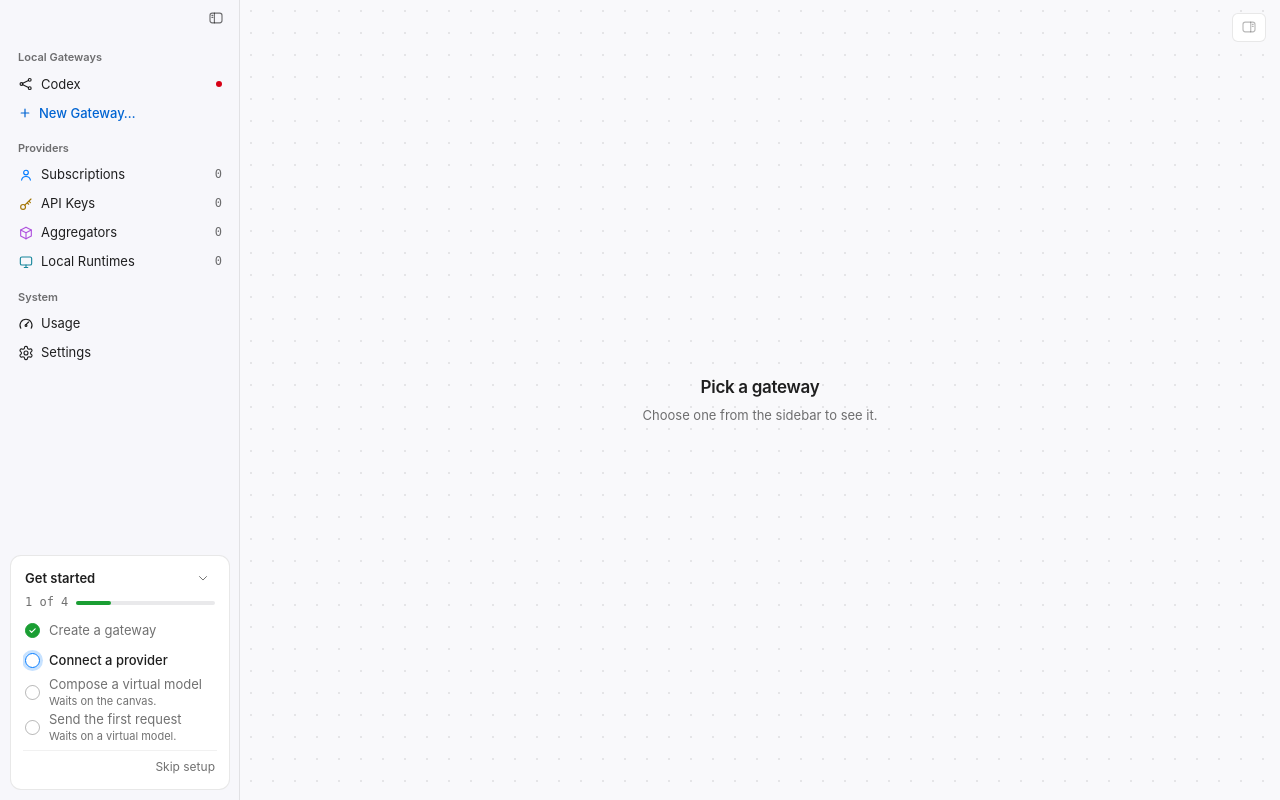
it: the sidebar reaches the creation sheet once the empty state has left
Click the button "New Gateway…": (120, 113) [10,99,230,127]
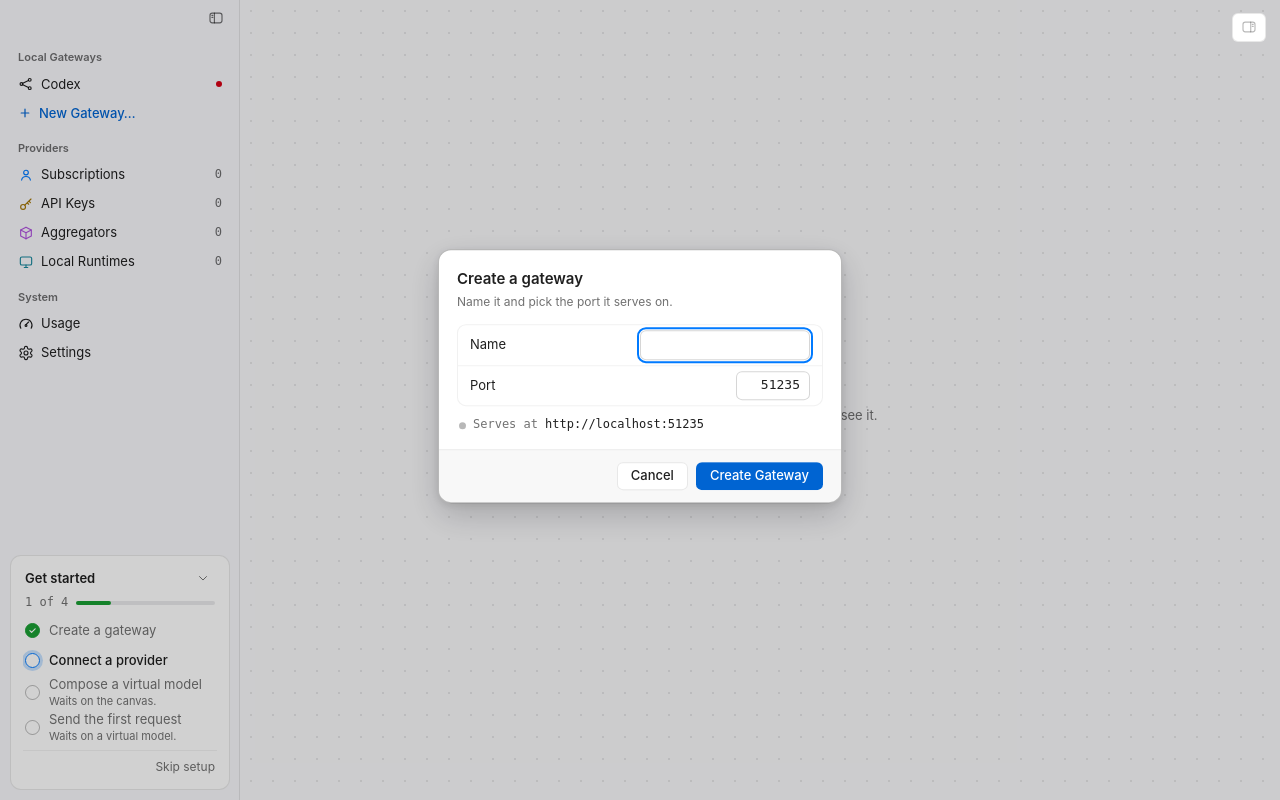
Now the dialog "Create a gateway" is shown, box [438,249,842,503]
